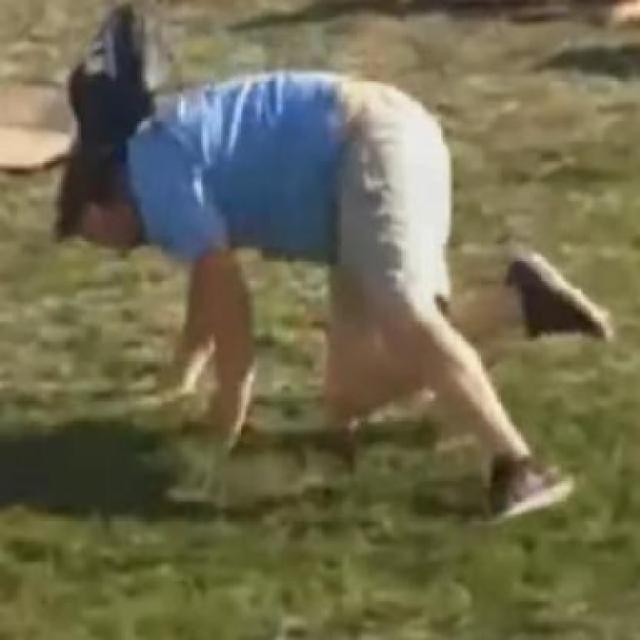fall: (61, 72, 612, 526)
